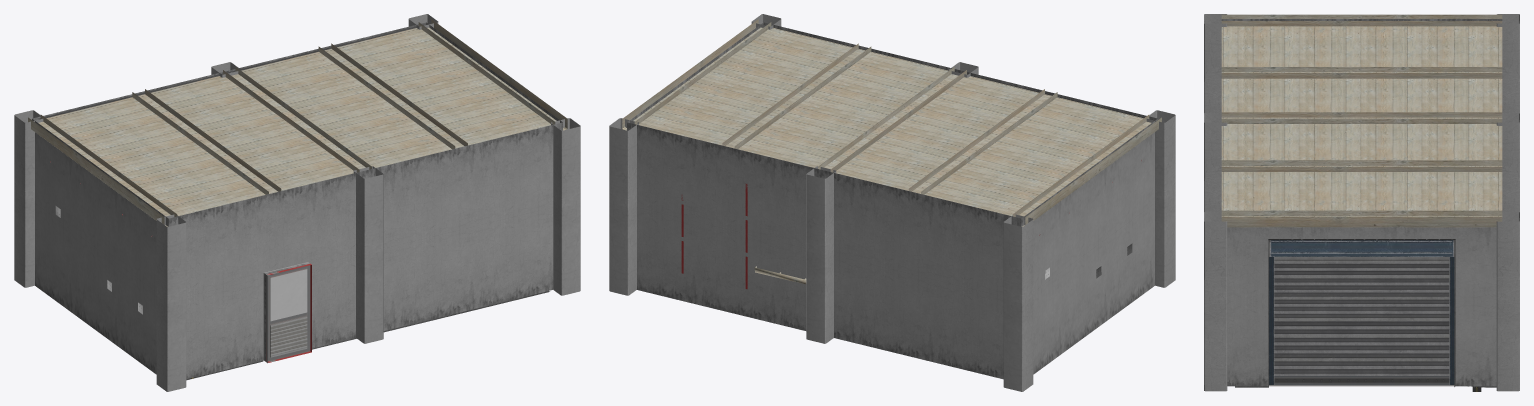
The model's file is oficina.glb.
3 views of the same model, side by side, from view 1: azimuth 30°, elevation 25°; view 2: azimuth 150°, elevation 25°; view 3: azimuth 270°, elevation 25° (orthographic). The views are drawn at different scales.
Visible parts, largest first — view 1: oficina; view 2: oficina; view 3: oficina, porta_enrolar.
Part boxes in pixels (x1,y1,x2,y2): oficina: (14, 14, 580, 391); oficina: (609, 14, 1175, 391); oficina: (1204, 14, 1519, 391); porta_enrolar: (1269, 240, 1454, 384).
Bounding box in the file's own units: 10.5 × 4.19 × 6.75.
Materials: 17 (17 with a texture image).
